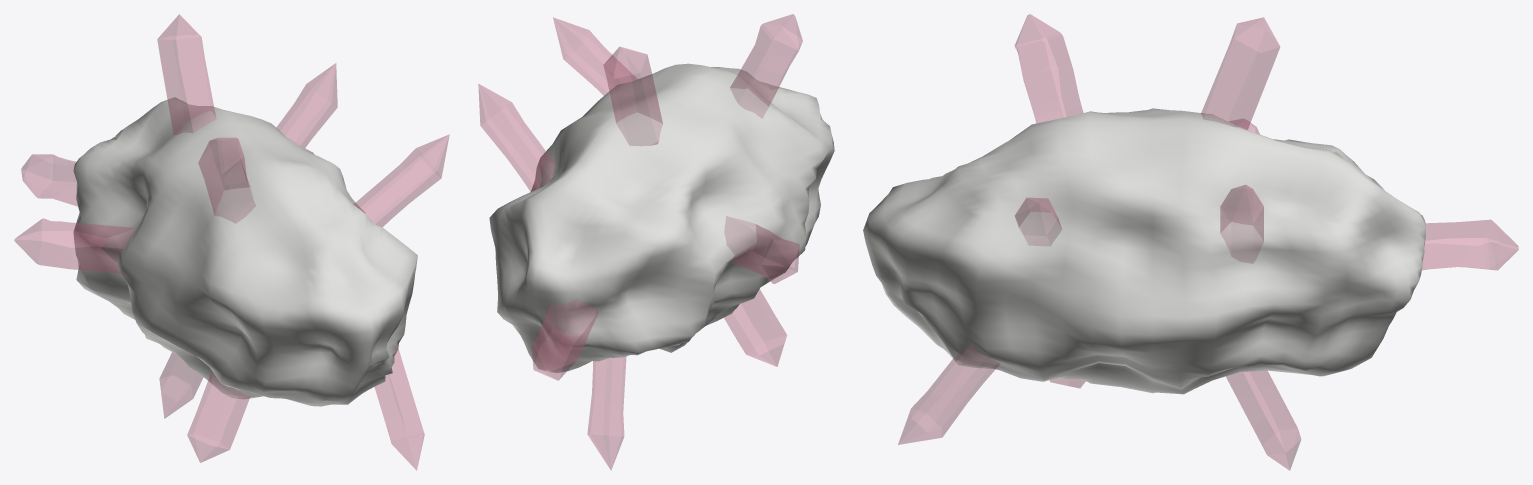
The model's file is a-corvette.glb.
3 renders of one model, left to right at view 1: azimuth 30°, elevation 25°; view 2: azimuth 150°, elevation 25°; view 3: azimuth 270°, elevation 25°, orthographic. The views are drawn at different scales.
Parts seen in each view (by area): view 1: azeti, crystals; view 2: azeti, crystals; view 3: azeti, crystals.
Part boxes in pixels (<box>): azeti: <box>73,97,417,406</box>; crystals: <box>14,14,449,470</box>; azeti: <box>489,63,834,372</box>; crystals: <box>478,14,802,470</box>; azeti: <box>863,108,1425,394</box>; crystals: <box>898,14,1518,470</box>.
Size of the model in its own units: 31.33 by 36.58 by 47.74.
